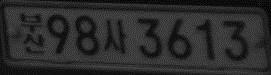1: (195, 19, 220, 60)
3: (222, 19, 248, 62), (137, 17, 162, 59)
6: (165, 19, 192, 60)
8: (74, 15, 101, 56)
9: (46, 14, 71, 55)
부산_V: (19, 12, 46, 55)
사: (103, 20, 128, 54)
